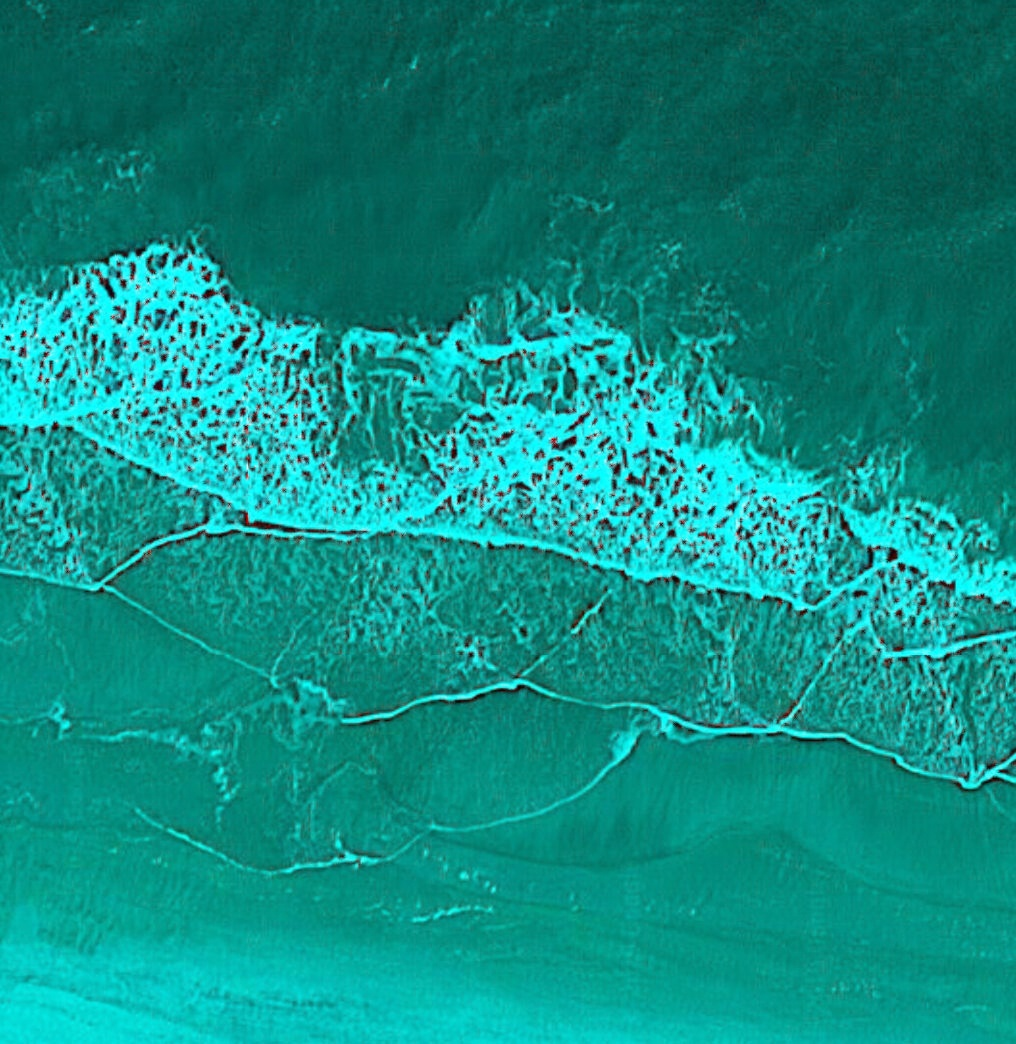rip_current: (250, 231, 447, 528)
